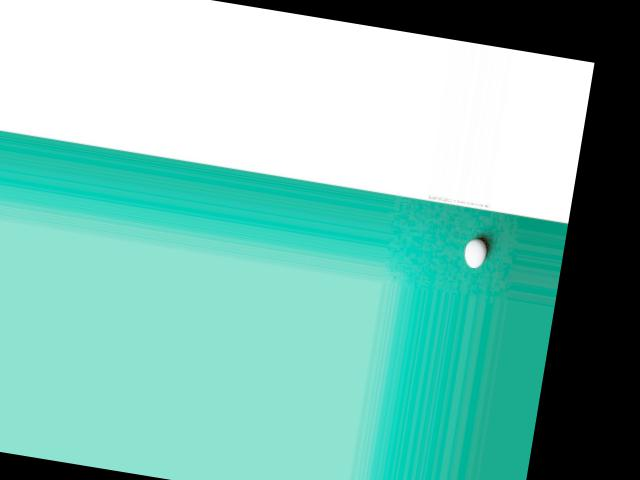egg: (461, 236, 487, 268)
